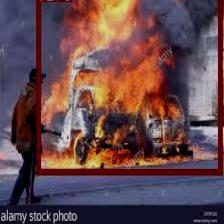fire: (36, 0, 222, 173)
